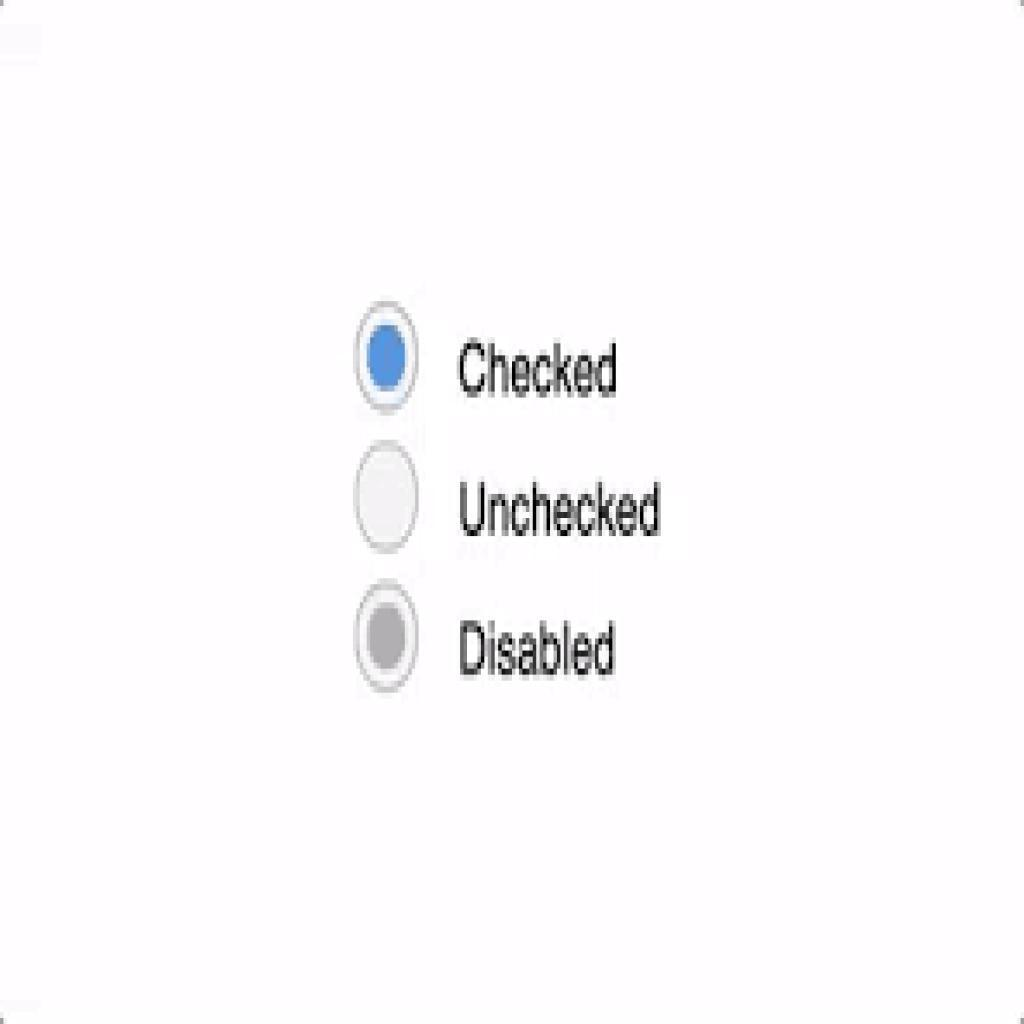label: (457, 471, 673, 545), (450, 331, 622, 406), (452, 612, 626, 684)
radio: (349, 570, 425, 707), (351, 427, 424, 560), (351, 291, 423, 421)
